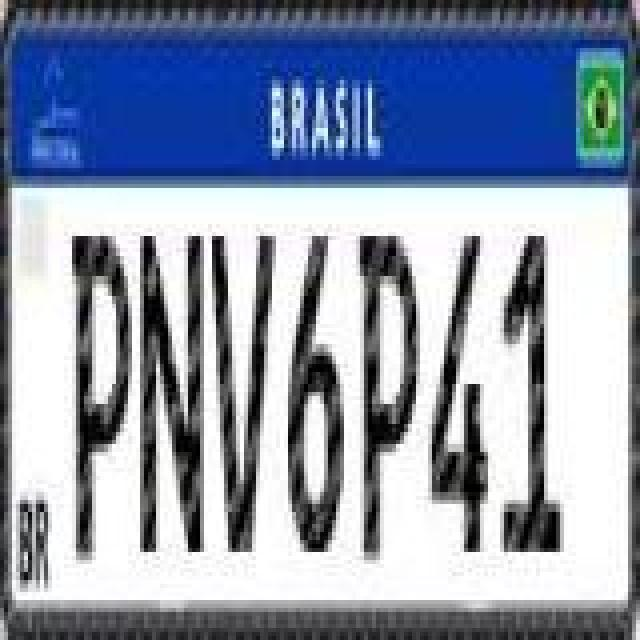1: (494, 224, 562, 560)
4: (426, 230, 486, 554)
6: (284, 230, 348, 554)
N: (138, 224, 206, 560)
P: (66, 232, 134, 568), (356, 224, 420, 560)
V: (206, 226, 274, 550)
